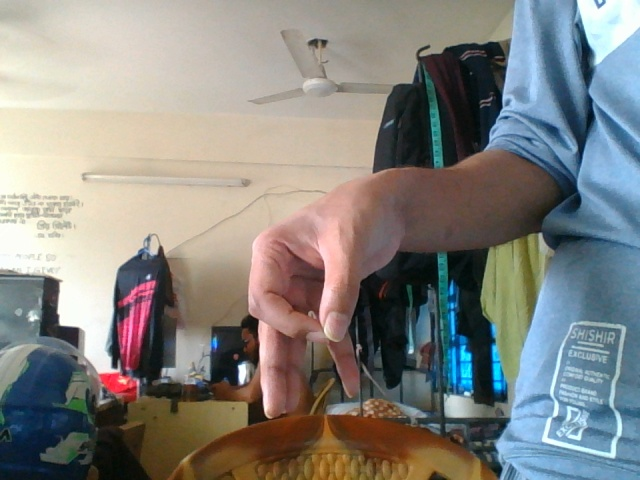pa: (245, 164, 403, 423)
